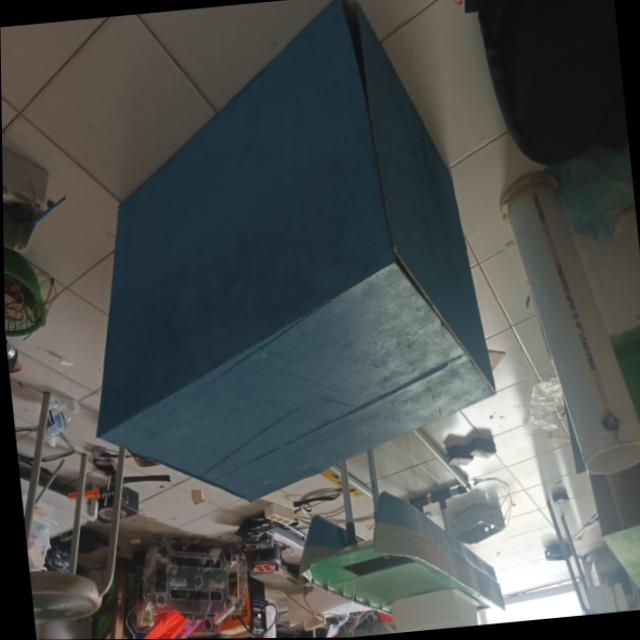blue_box: (26, 0, 557, 558)
